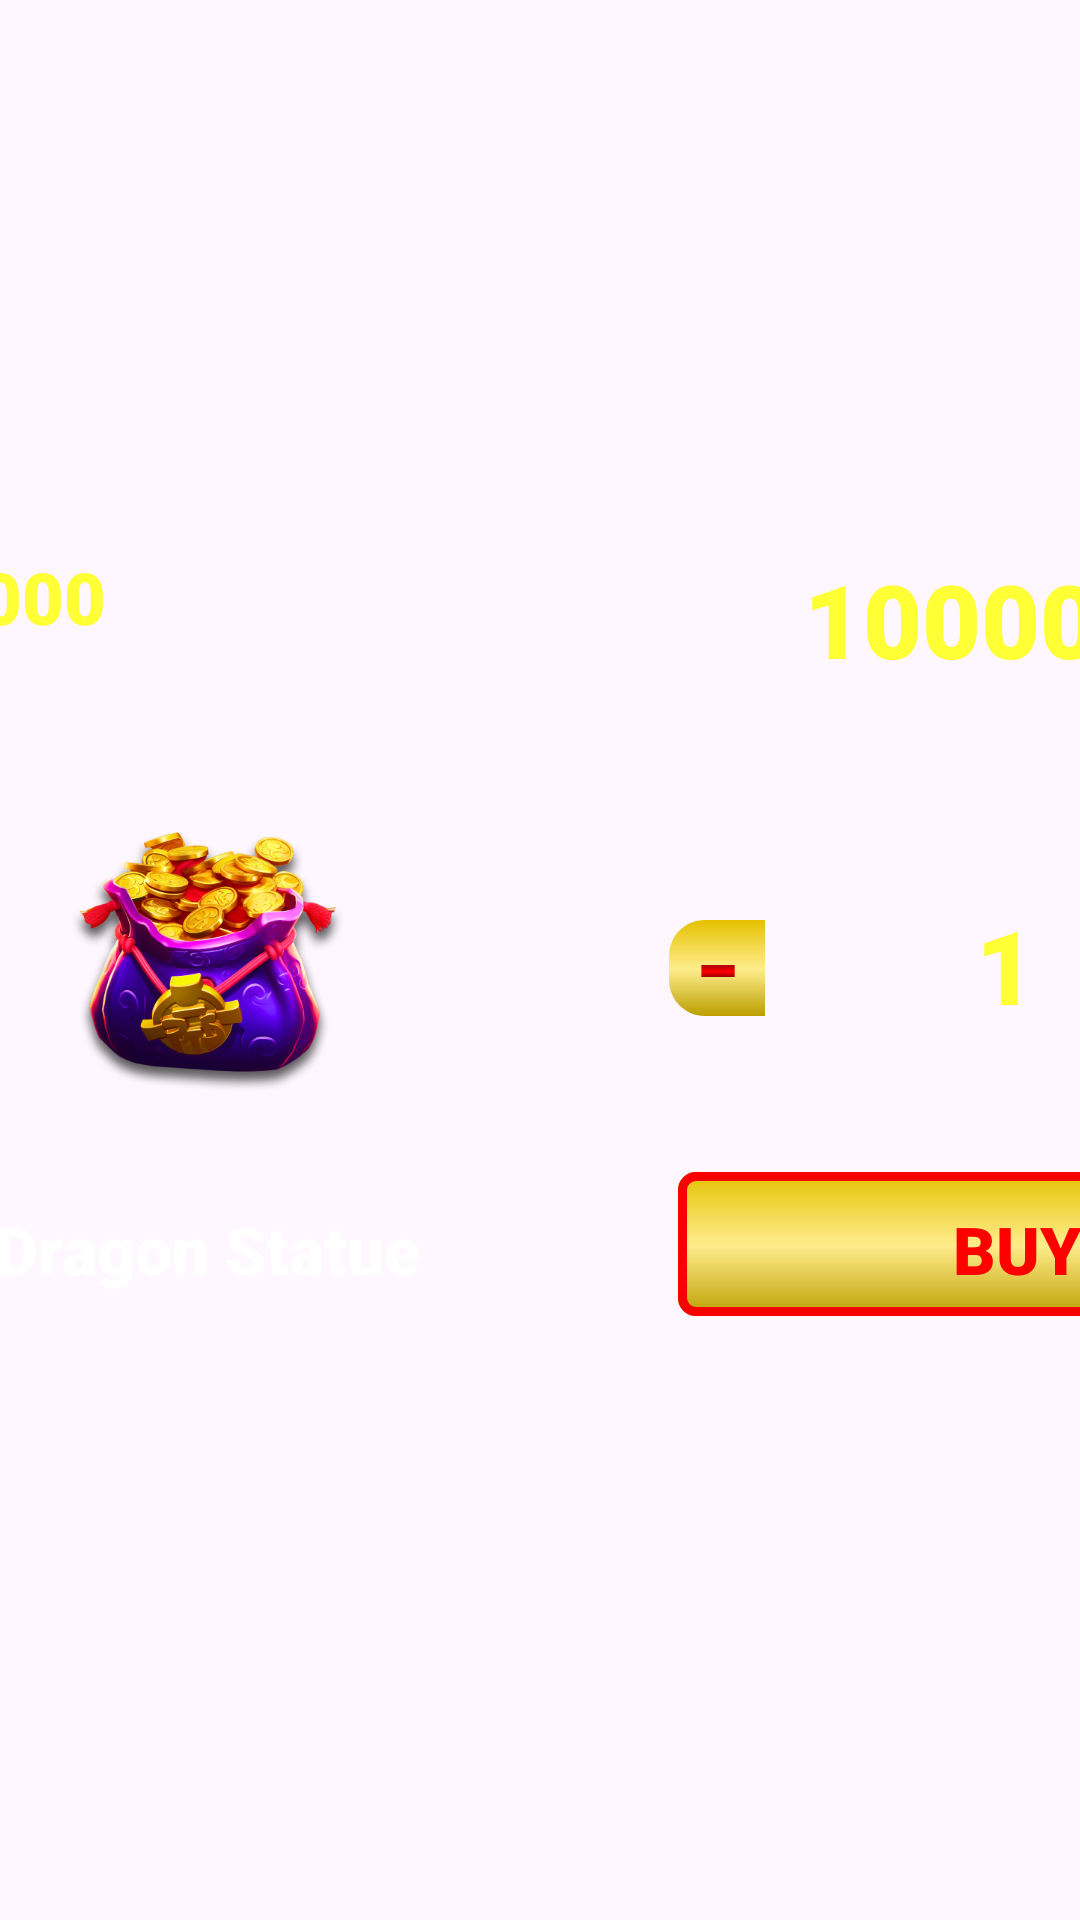

Screen size 1080x1920. Icon name, then its center in pixels as point (x, y):
minus pop up: point (717, 968)
